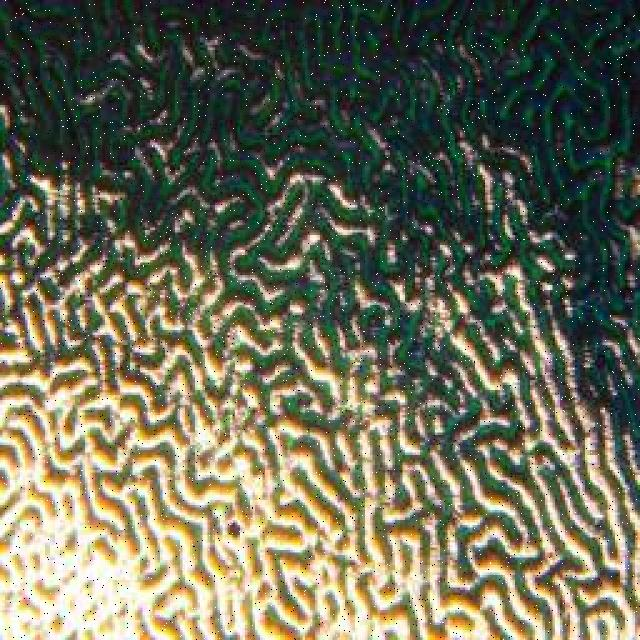reefs: (1, 0, 638, 635)
